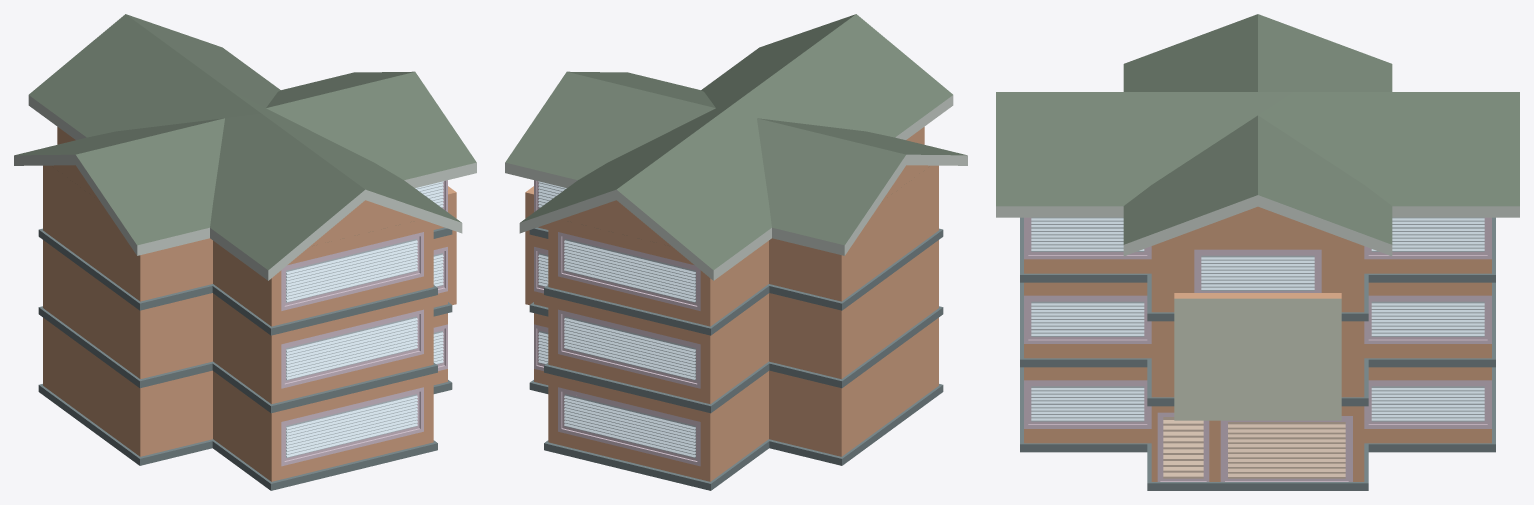
Rendered from SHOP2.fbx.
The picture shows the model from 3 angles, left to right: view 1: azimuth 30°, elevation 25°; view 2: azimuth 150°, elevation 25°; view 3: azimuth 270°, elevation 25°; orthographic projection. The views are drawn at different scales.
Parts seen in each view (by area): view 1: building_001; view 2: building_001; view 3: building_001.
Boxes of the visible parts, x1=… form: building_001: x1=14, y1=14, x2=476, y2=490; building_001: x1=505, y1=14, x2=967, y2=490; building_001: x1=996, y1=14, x2=1519, y2=490.
Bounding box in the file's own units: 1017 × 819 × 1232.
